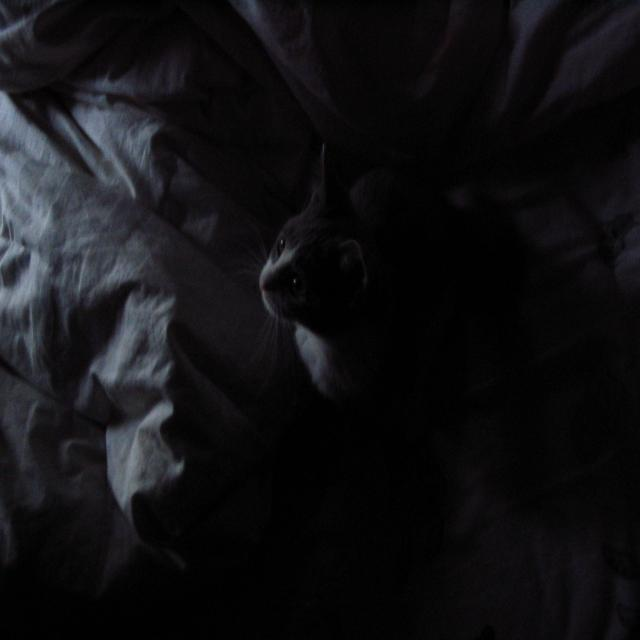Cat: (257, 107, 551, 443)
